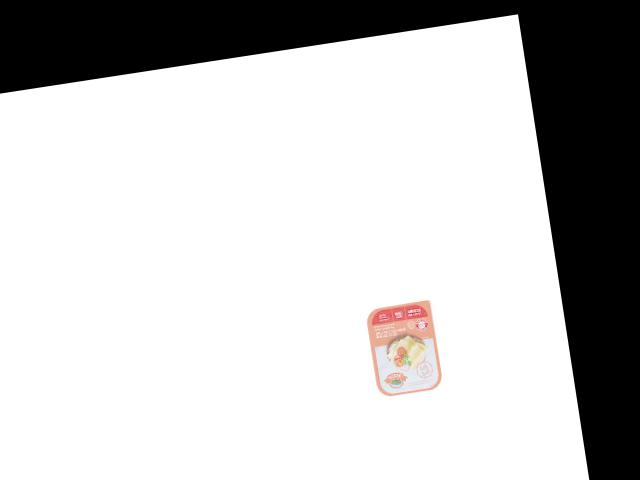cheese: (359, 294, 445, 400)
